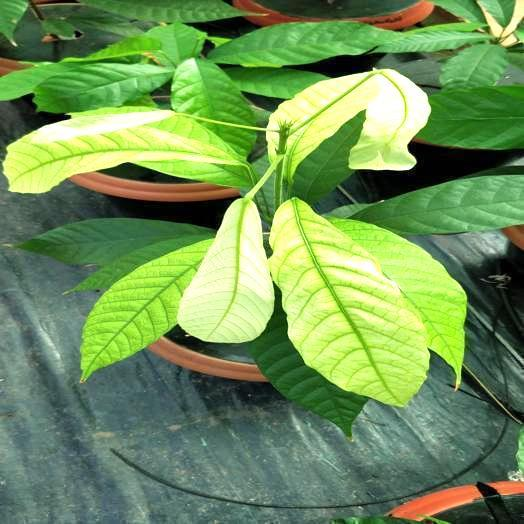Healthy Leaf: (248, 304, 367, 437), (353, 171, 523, 234), (13, 218, 211, 265), (208, 22, 406, 66), (416, 86, 523, 148), (34, 64, 171, 111), (292, 114, 362, 203), (72, 240, 192, 291), (171, 58, 254, 124), (81, 0, 246, 22), (222, 67, 327, 98), (375, 26, 488, 52), (439, 45, 507, 88), (145, 22, 205, 66), (0, 65, 64, 100), (200, 121, 255, 155)
Iron: (270, 199, 428, 404), (331, 218, 466, 383), (80, 241, 211, 380), (270, 69, 430, 181), (4, 126, 233, 192), (177, 199, 273, 342), (37, 110, 173, 142)
